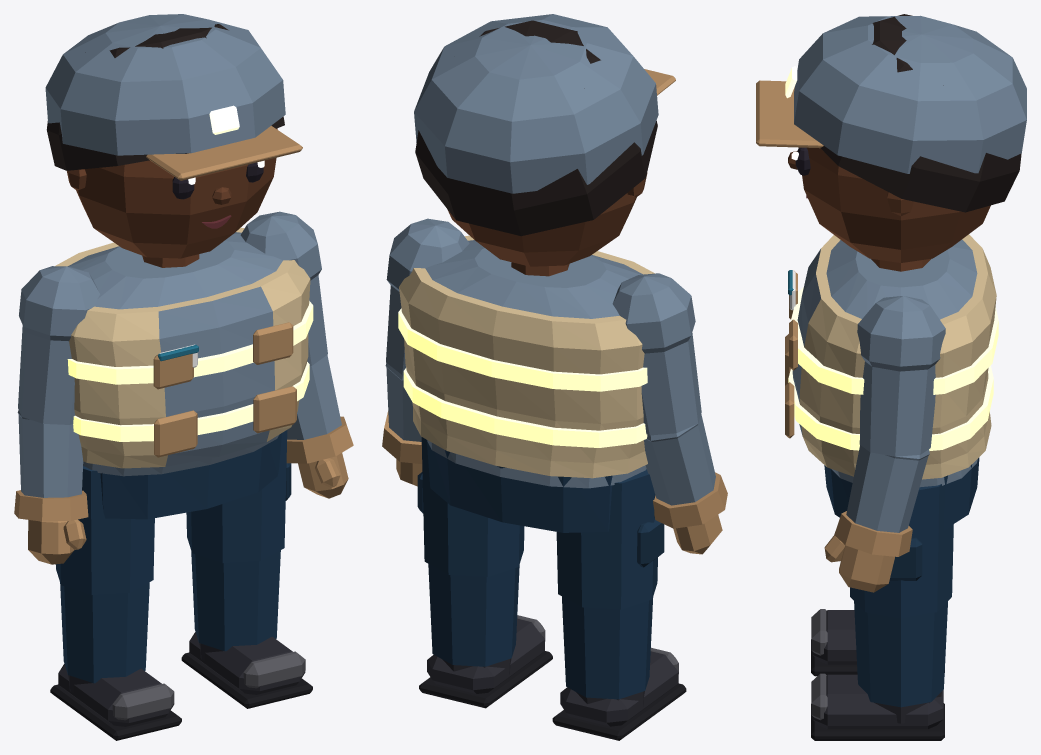
Rendered from auf_rin.glb.
3 views of the same model, side by side, from view 1: azimuth 30°, elevation 25°; view 2: azimuth 150°, elevation 25°; view 3: azimuth 270°, elevation 25° (orthographic).
Parts seen in each view (by area): view 1: kopfbedeckung, weste, arm_r, bein_r, bein_l, kopf, torso, arm_l, becken, taschen, schuh_r, schuh_l (+5 smaller); view 2: kopfbedeckung, weste, bein_r, arm_r, bein_l, haare, torso, signalstreifen, becken, arm_l, kopf, schuh_r (+2 smaller); view 3: kopfbedeckung, arm_l, weste, bein_l, kopf, torso, haare, schuh_l, signalstreifen, schuh_r, becken, hand_l (+3 smaller).
Boxes of the visible parts, left/top/right/bottom form: kopfbedeckung: left=45, top=14, right=302, bottom=180; weste: left=55, top=227, right=310, bottom=468; arm_r: left=14, top=266, right=99, bottom=521; bein_r: left=55, top=466, right=154, bottom=683; bein_l: left=186, top=430, right=291, bottom=651; kopf: left=67, top=128, right=277, bottom=258; torso: left=67, top=232, right=282, bottom=476; arm_l: left=240, top=211, right=353, bottom=463; becken: left=100, top=433, right=281, bottom=519; taschen: left=153, top=322, right=296, bottom=457; schuh_r: left=50, top=664, right=181, bottom=740; schuh_l: left=181, top=632, right=312, bottom=708; kopfbedeckung: left=414, top=14, right=675, bottom=193; weste: left=399, top=235, right=654, bottom=478; bein_r: left=556, top=469, right=664, bottom=699; arm_r: left=612, top=273, right=727, bottom=528; bein_l: left=417, top=437, right=524, bottom=666; haare: left=415, top=20, right=657, bottom=236; torso: left=425, top=240, right=646, bottom=488; signalstreifen: left=398, top=308, right=647, bottom=447; becken: left=426, top=440, right=612, bottom=532; arm_l: left=382, top=218, right=469, bottom=463; kopf: left=447, top=172, right=647, bottom=266; schuh_r: left=552, top=647, right=686, bottom=740; kopfbedeckung: left=756, top=15, right=1026, bottom=173; arm_l: left=834, top=296, right=945, bottom=556; weste: left=792, top=234, right=996, bottom=479; bein_l: left=850, top=484, right=953, bottom=707; kopf: left=802, top=147, right=990, bottom=262; torso: left=826, top=239, right=977, bottom=487; haare: left=820, top=14, right=1021, bottom=212; schuh_l: left=811, top=673, right=944, bottom=740; signalstreifen: left=788, top=287, right=998, bottom=450; schuh_r: left=811, top=609, right=944, bottom=676; becken: left=824, top=457, right=979, bottom=530; hand_l: left=824, top=535, right=894, bottom=592.
Size of the model in its own units: 0.0124 by 0.0234 by 0.00868.
